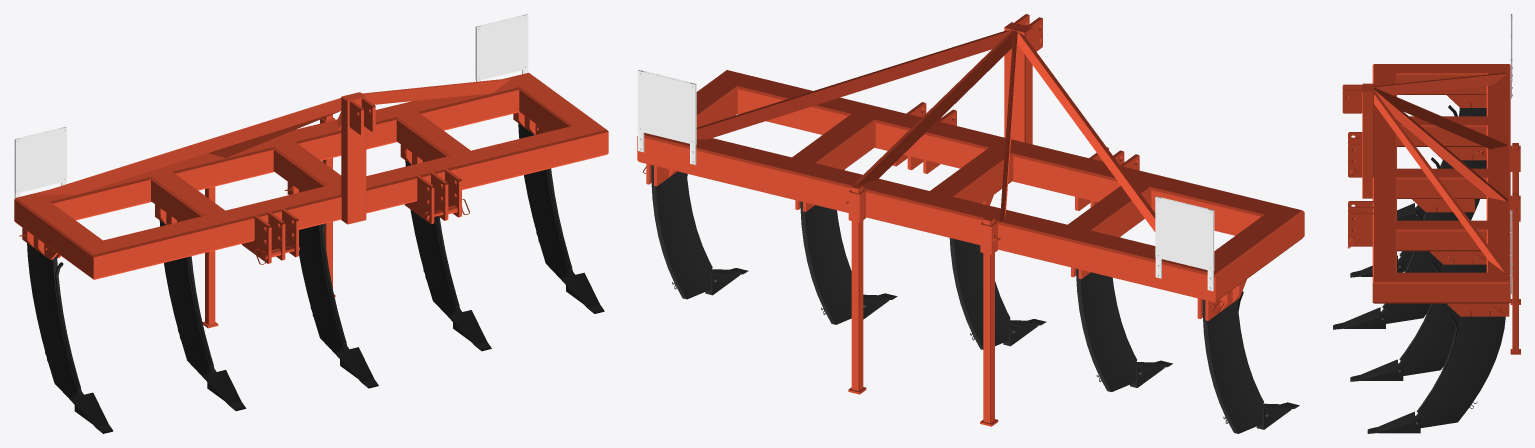
The model's file is Plow1.glb.
3 views of the same model, side by side, from view 1: azimuth 30°, elevation 25°; view 2: azimuth 150°, elevation 25°; view 3: azimuth 270°, elevation 25° (orthographic). The views are drawn at different scales.
Parts seen in each view (by area): view 1: topbody, plow_teeth, rearWarningSignsTable, supportFrame; view 2: topbody, plow_teeth, rearWarningSignsTable, supportFrame; view 3: topbody, plow_teeth, supportFrame, rearWarningSignsTable.
Part boxes in pixels (x1,y1,x2,y2): topbody: (14,72,608,279); plow_teeth: (27,123,604,433); rearWarningSignsTable: (14,14,528,198); supportFrame: (202,114,335,328); topbody: (637,14,1304,320); plow_teeth: (651,165,1299,433); rearWarningSignsTable: (637,70,1214,291); supportFrame: (845,184,1000,426); topbody: (1342,64,1520,316); plow_teeth: (1333,105,1505,433); supportFrame: (1510,143,1520,354); rearWarningSignsTable: (1510,14,1512,293).
Size of the model in its own units: 3 by 1.53 by 1.09.
